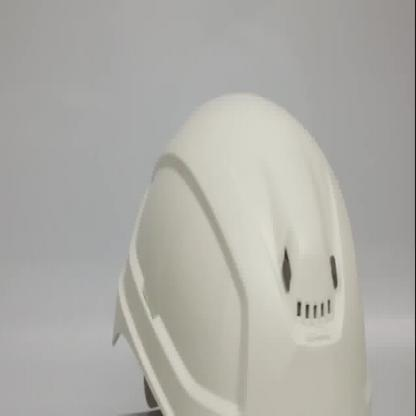helmet: (111, 90, 378, 415)
